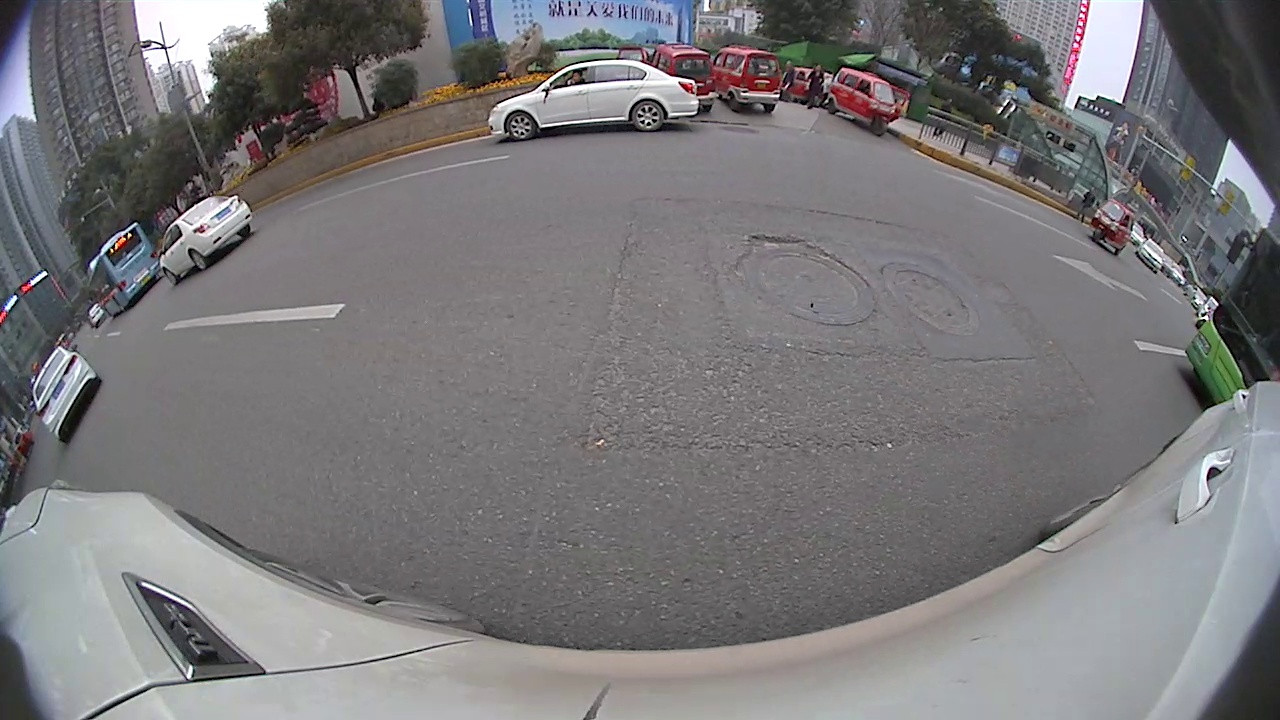bus: (1186, 210, 1278, 437), (83, 221, 163, 319)
car: (486, 58, 699, 143), (158, 193, 255, 287), (32, 346, 103, 448), (1137, 237, 1164, 273), (1197, 293, 1218, 323), (1164, 257, 1182, 284), (1186, 285, 1204, 308)
front: (507, 112, 535, 143), (162, 269, 181, 288)
person: (811, 62, 824, 108), (783, 63, 795, 99)
rear: (631, 100, 667, 133), (190, 248, 209, 274)
rider: (713, 43, 780, 114), (831, 68, 894, 139), (653, 43, 713, 115), (1091, 199, 1131, 248)
